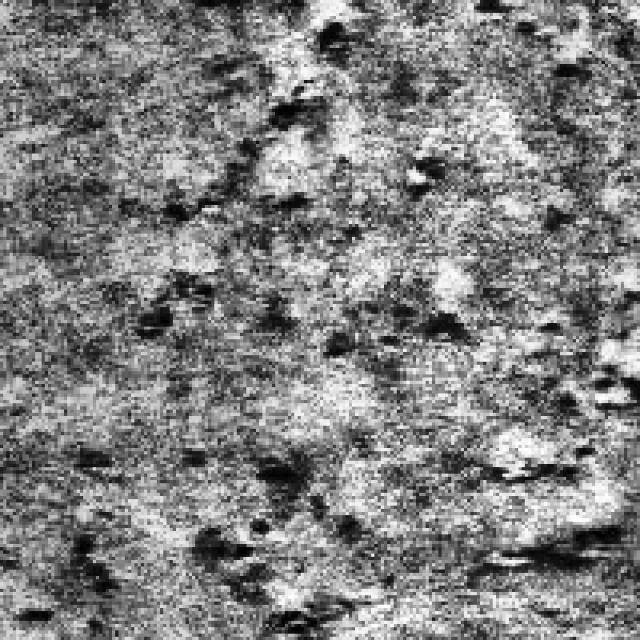Crazing: (134, 16, 368, 362), (458, 368, 634, 611), (176, 442, 365, 634)
